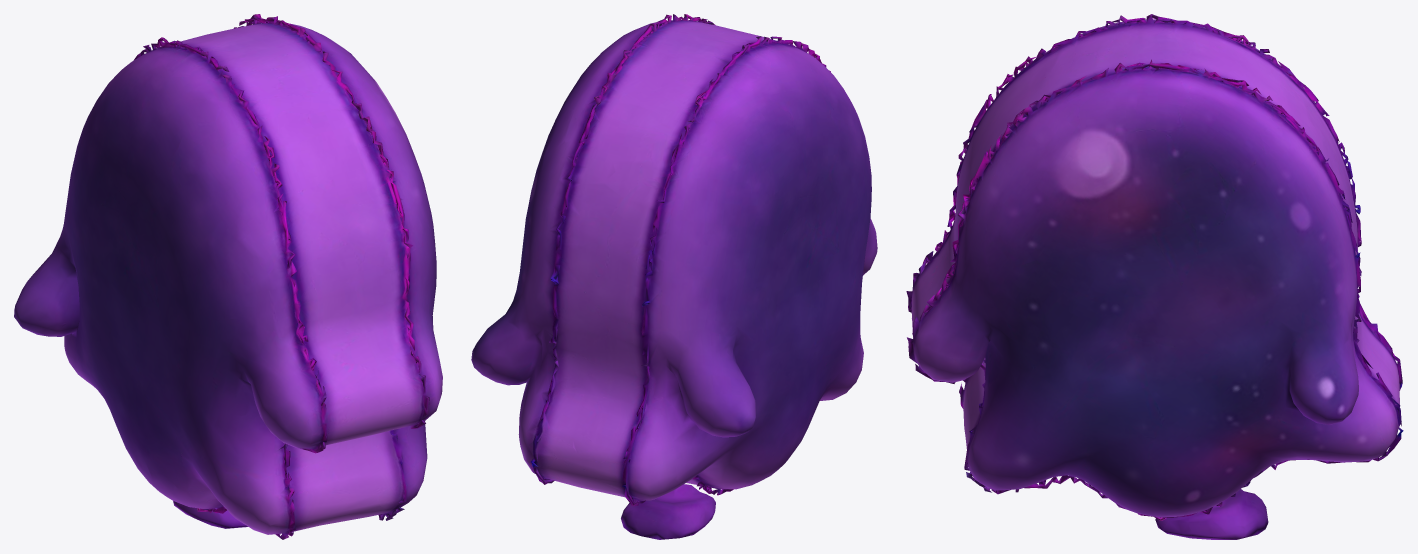
3 renders of one model, left to right at view 1: azimuth 30°, elevation 25°; view 2: azimuth 150°, elevation 25°; view 3: azimuth 270°, elevation 25°, orthographic. The views are drawn at different scales.
Visible parts, largest first — view 1: tripo_node_8d23f23c-004f-47a1-9c08-4c2105df6bba; view 2: tripo_node_8d23f23c-004f-47a1-9c08-4c2105df6bba; view 3: tripo_node_8d23f23c-004f-47a1-9c08-4c2105df6bba.
Boxes of the visible parts, x1,y1,x2,y2 form: tripo_node_8d23f23c-004f-47a1-9c08-4c2105df6bba: (14,14,442,539); tripo_node_8d23f23c-004f-47a1-9c08-4c2105df6bba: (471,14,877,539); tripo_node_8d23f23c-004f-47a1-9c08-4c2105df6bba: (906,14,1403,539).
Bounding box in the file's own units: 0.6298 × 1 × 0.9293.
Materials: 1 (1 with a texture image).
